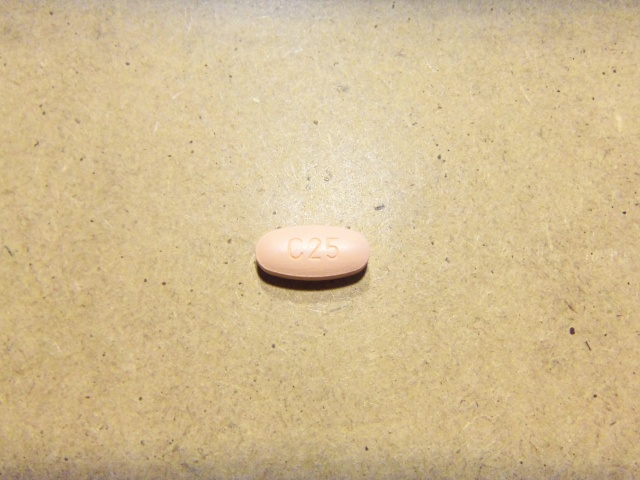2: (305, 233, 325, 264)
5: (326, 231, 345, 266)
C: (282, 232, 305, 263)
